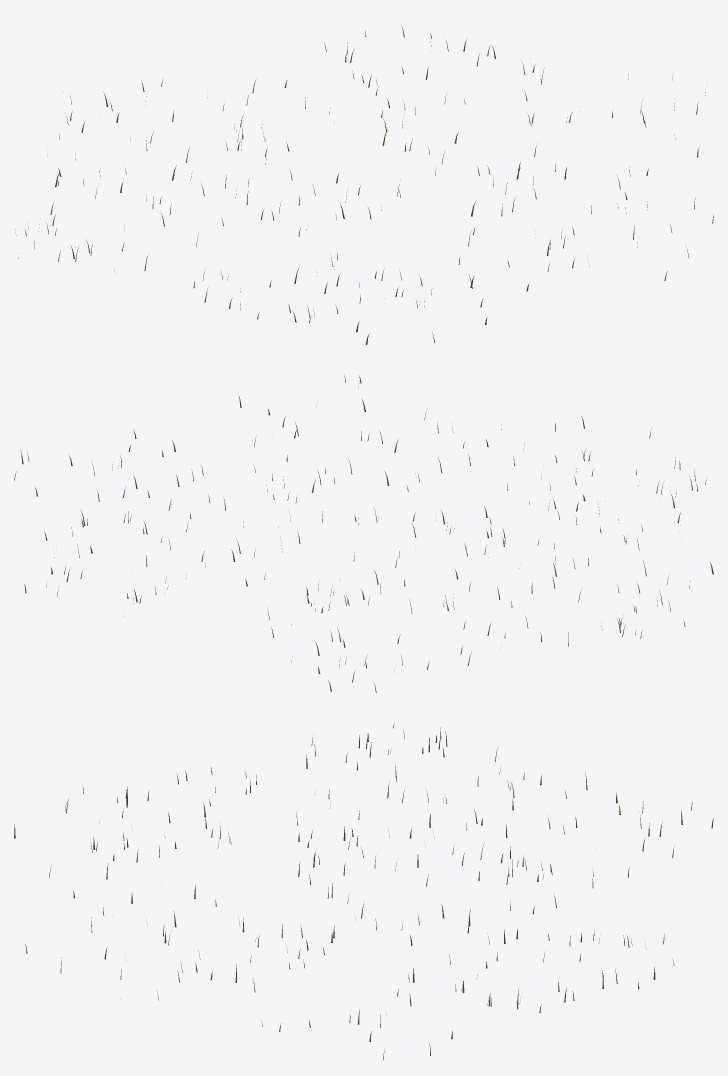
3 renders of one model, top to bottom at view 1: azimuth 30°, elevation 25°; view 2: azimuth 150°, elevation 25°; view 3: azimuth 270°, elevation 25°, orthographic. The views are drawn at different scales.
Parts seen in each view (by area): view 1: GrassPatch; view 2: GrassPatch; view 3: GrassPatch.
Part boxes in pixels (x1,y1,x2,y2): GrassPatch: (15,25,713,344); GrassPatch: (14,375,713,692); GrassPatch: (14,722,713,1059).
Size of the model in its own units: 19.43 by 0.4904 by 17.24.
